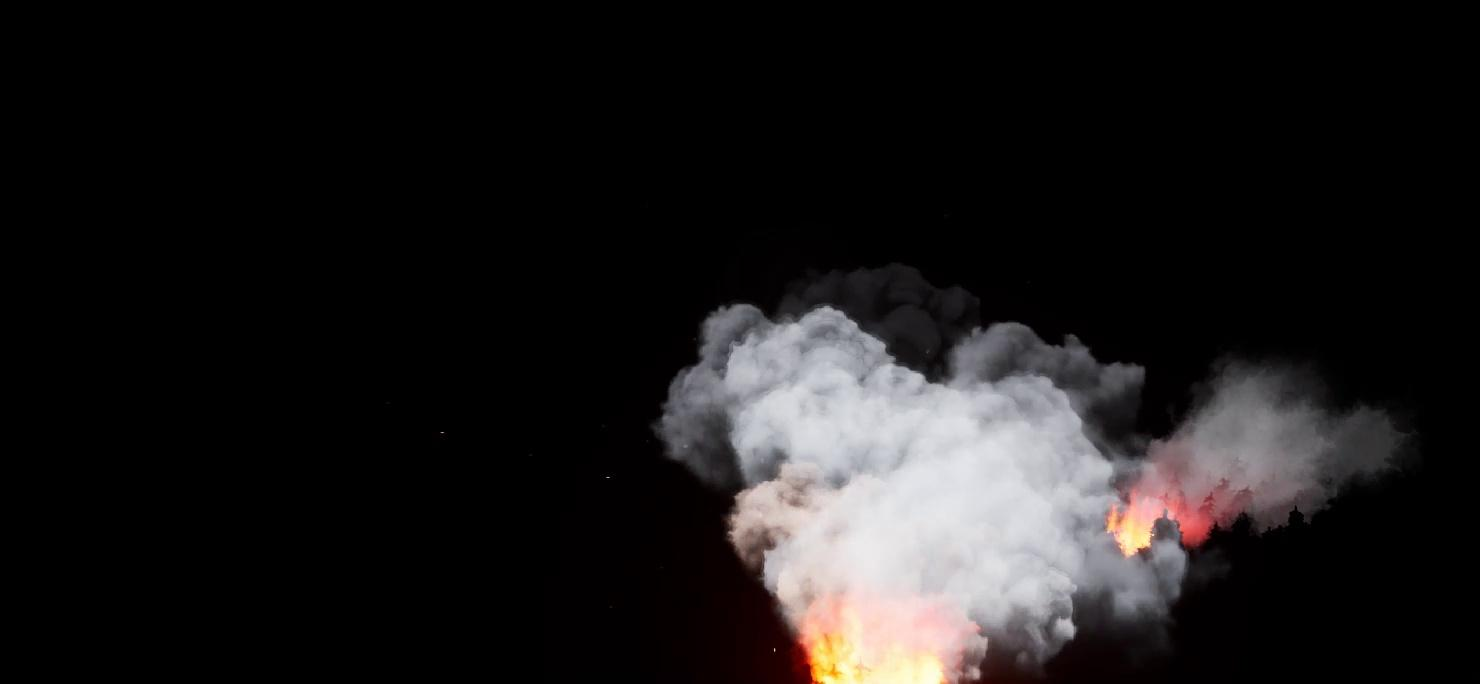fire: (791, 599, 986, 683), (1099, 475, 1240, 565)
smoke: (642, 268, 1412, 683)
